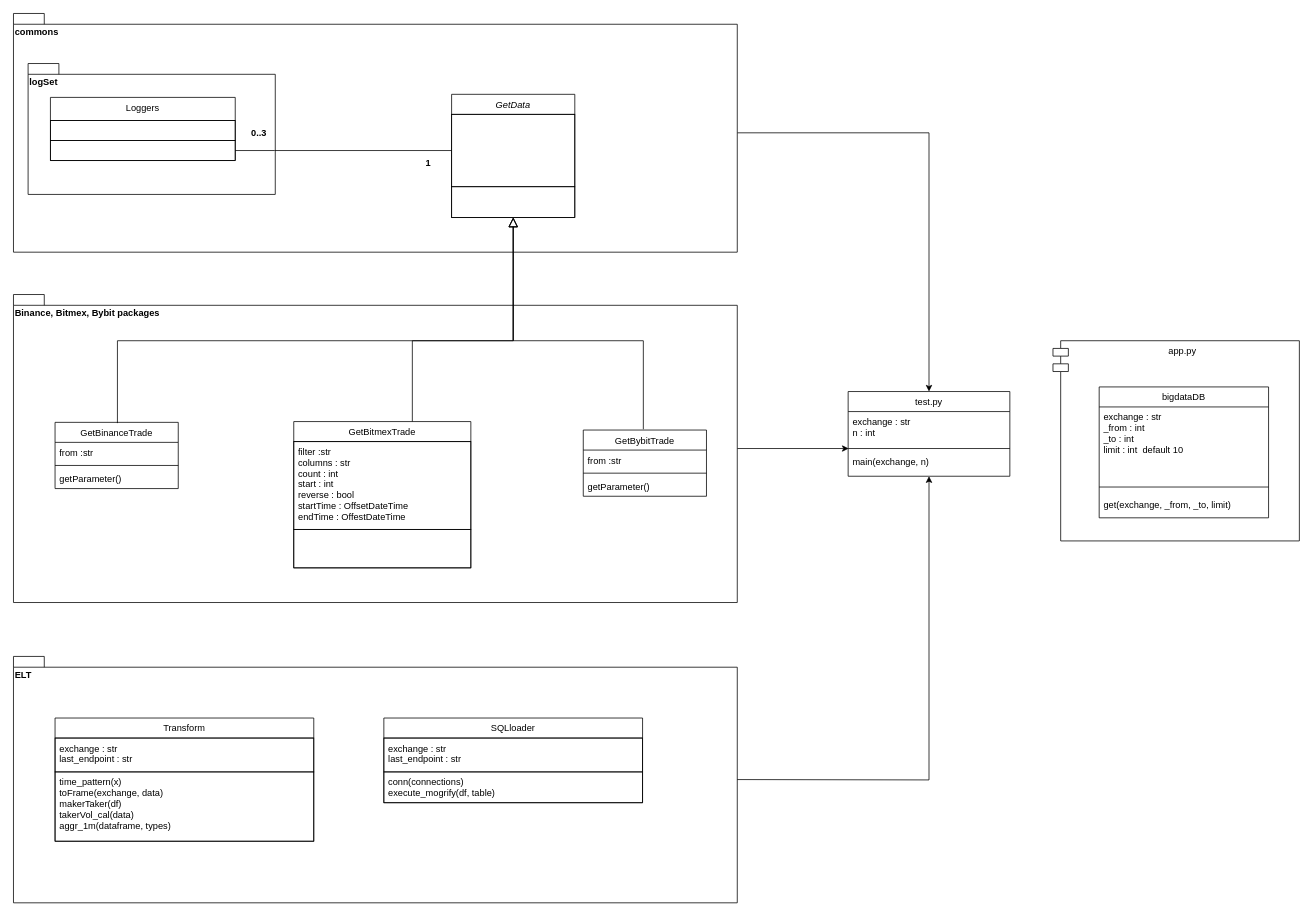
This 1313x916 diagram has some shape labels left out. Each missing label, with the centre of its shape:
"count(limit_num) getParameter()" goes at point (382, 548).
"data : str endpoint : str symbol : str limit : str mylog : logging" goes at point (513, 150).
"getParameter() getTradeData(pfunc)" goes at point (513, 202).
"initLog : logging" goes at point (142, 130).
"log(name,directory, filename)" goes at point (142, 150).
